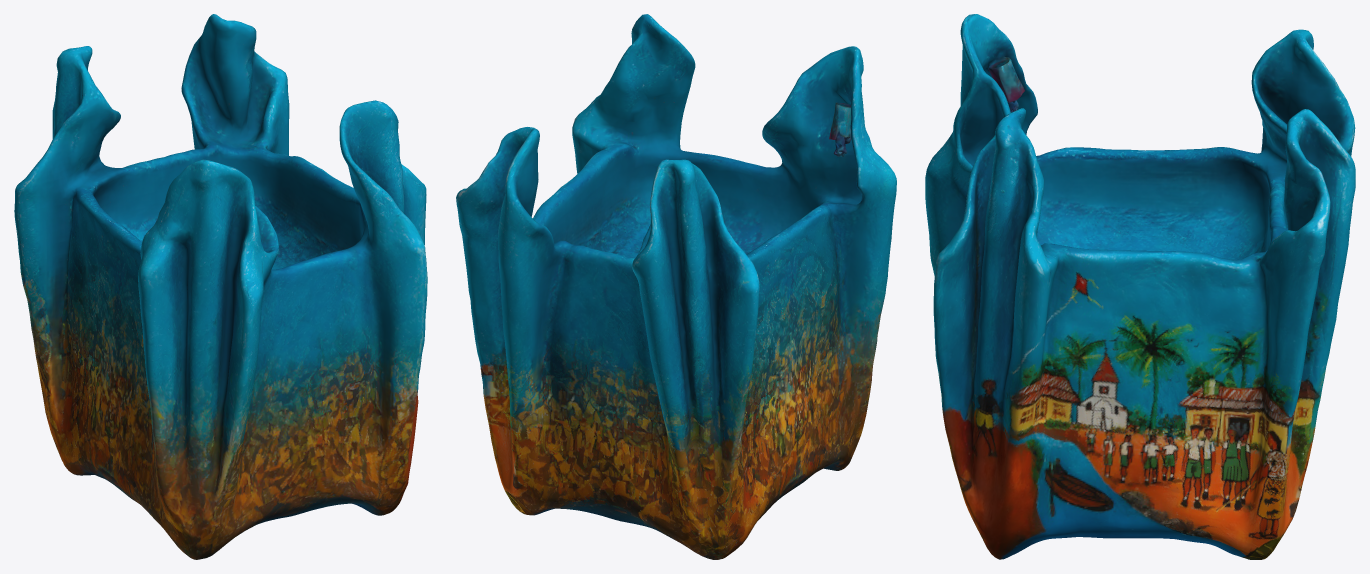
Rendered from vase-study.glb.
3 views of the same model, side by side, from view 1: azimuth 30°, elevation 25°; view 2: azimuth 150°, elevation 25°; view 3: azimuth 270°, elevation 25° (orthographic). The views are drawn at different scales.
Visible parts, largest first — view 1: tripo_node_5aa8ac13-c2c6-4789-b056-6f971be5b720; view 2: tripo_node_5aa8ac13-c2c6-4789-b056-6f971be5b720; view 3: tripo_node_5aa8ac13-c2c6-4789-b056-6f971be5b720.
Boxes of the visible parts, x1,y1,x2,y2 form: tripo_node_5aa8ac13-c2c6-4789-b056-6f971be5b720: [14, 14, 427, 559]; tripo_node_5aa8ac13-c2c6-4789-b056-6f971be5b720: [456, 14, 896, 559]; tripo_node_5aa8ac13-c2c6-4789-b056-6f971be5b720: [925, 14, 1355, 559].
Bounding box in the file's own units: 0.7734 × 1 × 0.8835.
Materials: 1 (1 with a texture image).
